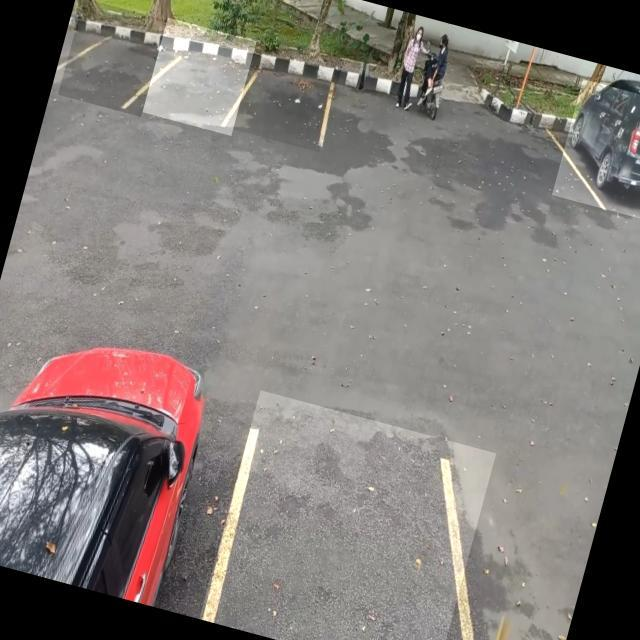empty: (198, 390, 495, 640), (230, 33, 344, 152), (142, 17, 256, 136), (57, 0, 166, 116)
occupied: (552, 79, 640, 226)
